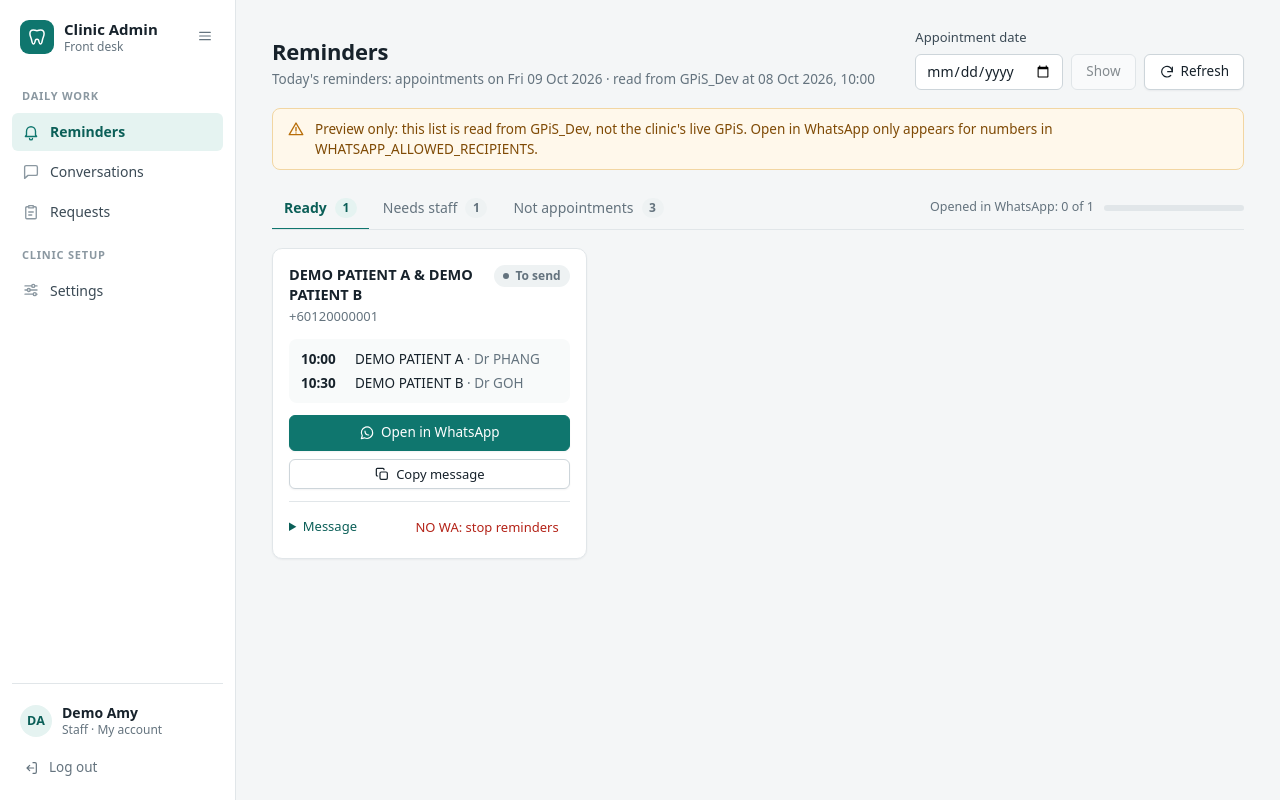
Scenario: reminders › shows the error when opening cannot be recorded
This screenshot has width=1280, height=800.
Click the link "Open in WhatsApp" at (429,433), box [289,415,570,451]
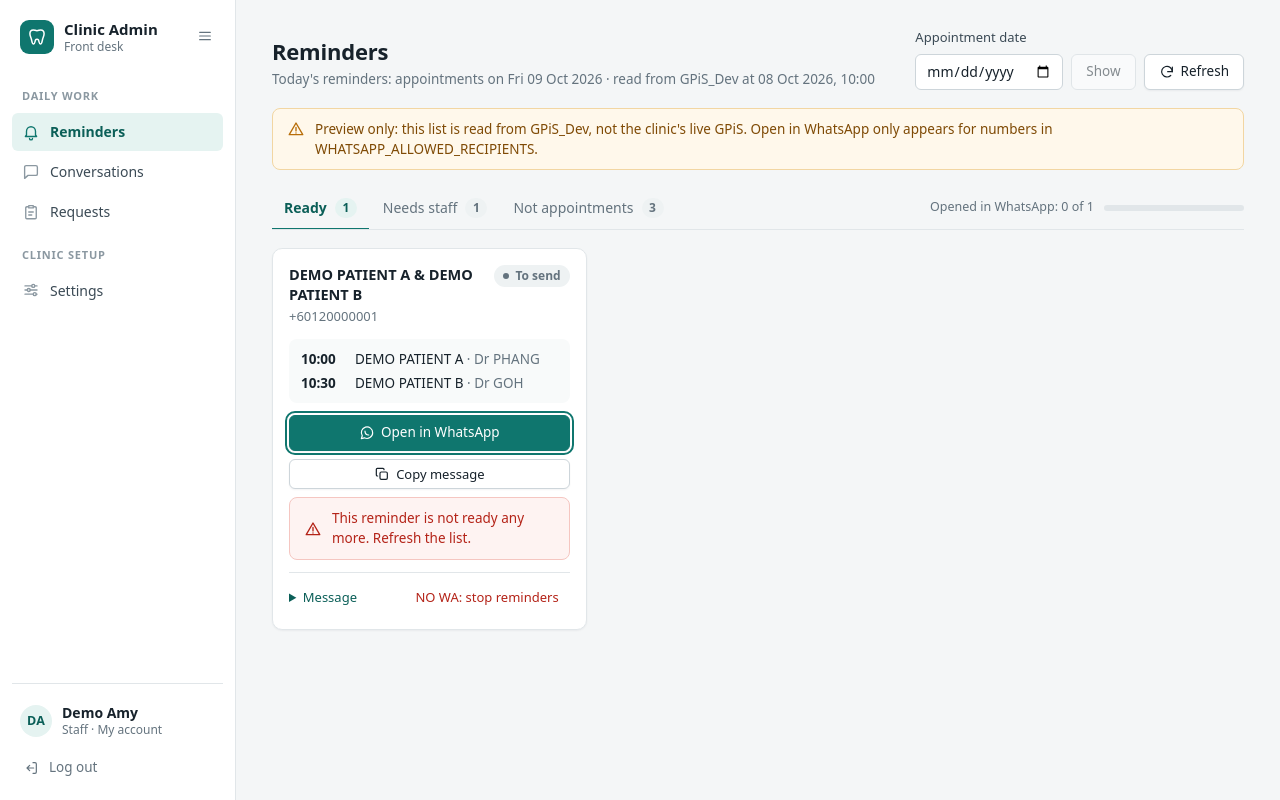
Expected: the message shows "not ready any more", [332,509,524,547]
